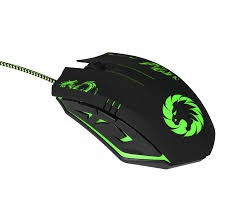mouse: (49, 51, 220, 173)
